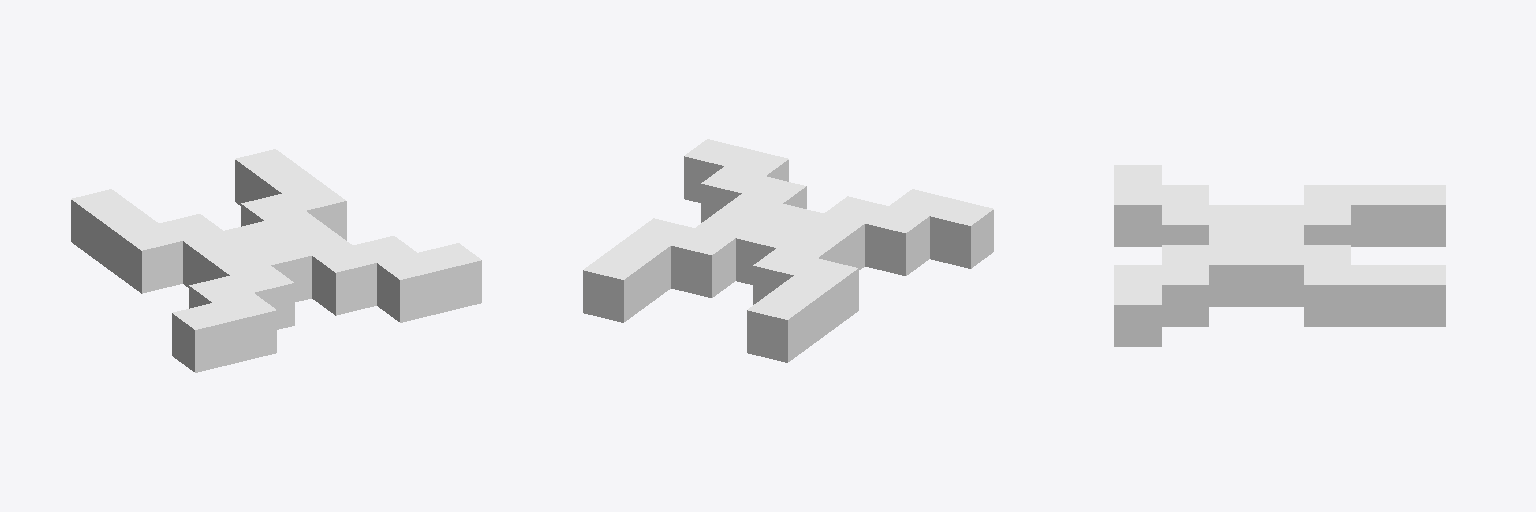
Rendered from Shears.obj.
3 views of the same model, side by side, from view 1: azimuth 30°, elevation 25°; view 2: azimuth 150°, elevation 25°; view 3: azimuth 270°, elevation 25° (orthographic).
Parts seen in each view (by area): view 1: object 1; view 2: object 1; view 3: object 1.
Part boxes in pixels (x1,y1,x2,y2): object 1: (71,149,481,372); object 1: (583,139,993,362); object 1: (1114,165,1445,346).
Size of the model in its own units: 0.7 by 0.1 by 0.7.